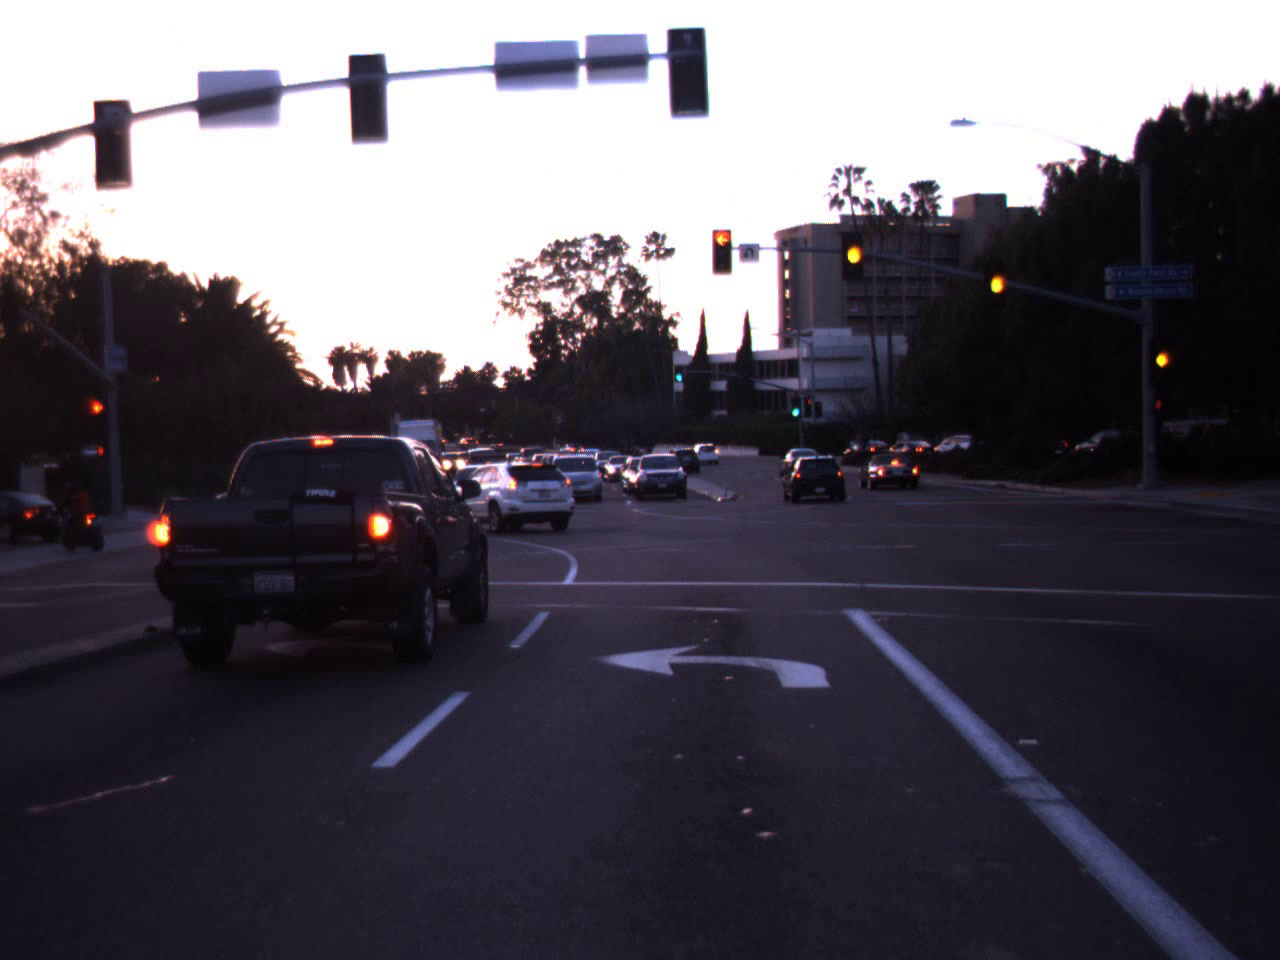go: (786, 388, 804, 418), (671, 357, 686, 382)
stop: (698, 225, 746, 274), (84, 396, 111, 445)
warning: (836, 220, 872, 283), (981, 250, 1014, 313), (1148, 333, 1175, 382)
